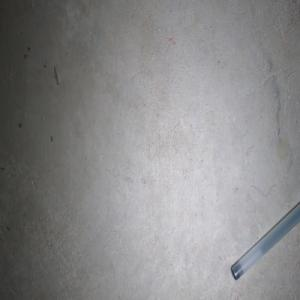Pen: (231, 202, 300, 280)
